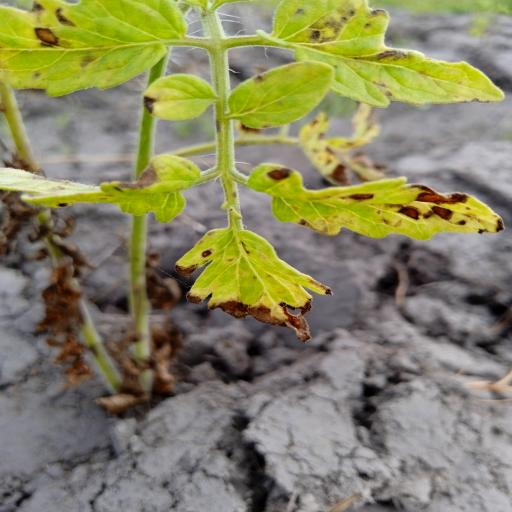Tomato_Brown_Spots: (265, 0, 512, 111), (246, 156, 512, 245), (174, 223, 334, 346), (0, 0, 193, 95)
